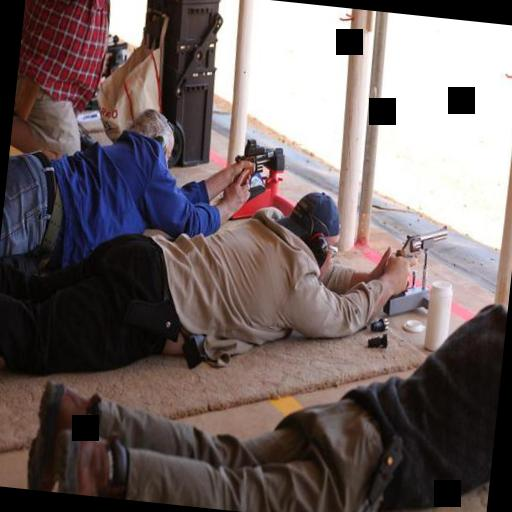Handgun: (382, 209, 452, 291), (230, 129, 287, 183)
